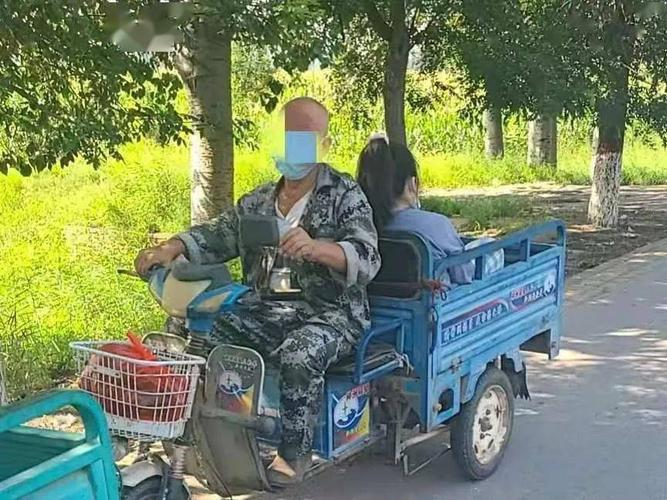driver: (175, 105, 348, 460)
overloading: (64, 108, 566, 481)
passenger: (349, 126, 468, 294)
